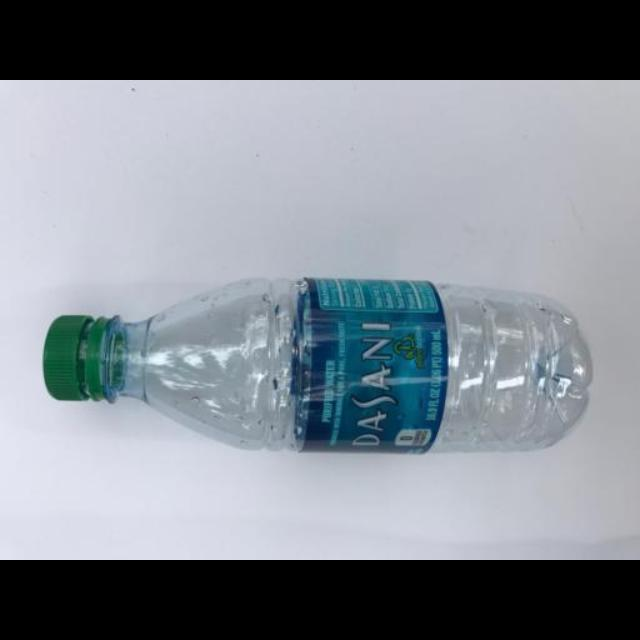garrafa plástica: (94, 273, 596, 457)
tampa plástica: (40, 310, 94, 406)
